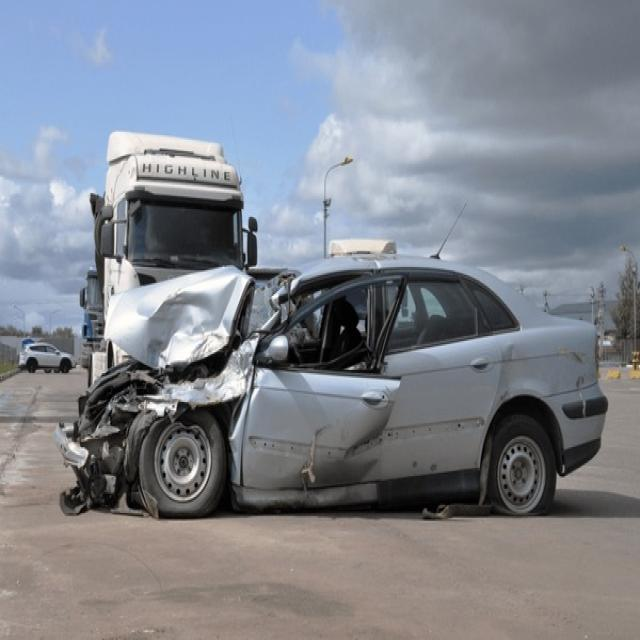accident: (54, 254, 609, 516)
car: (19, 343, 76, 373)
truck: (80, 132, 258, 342)
